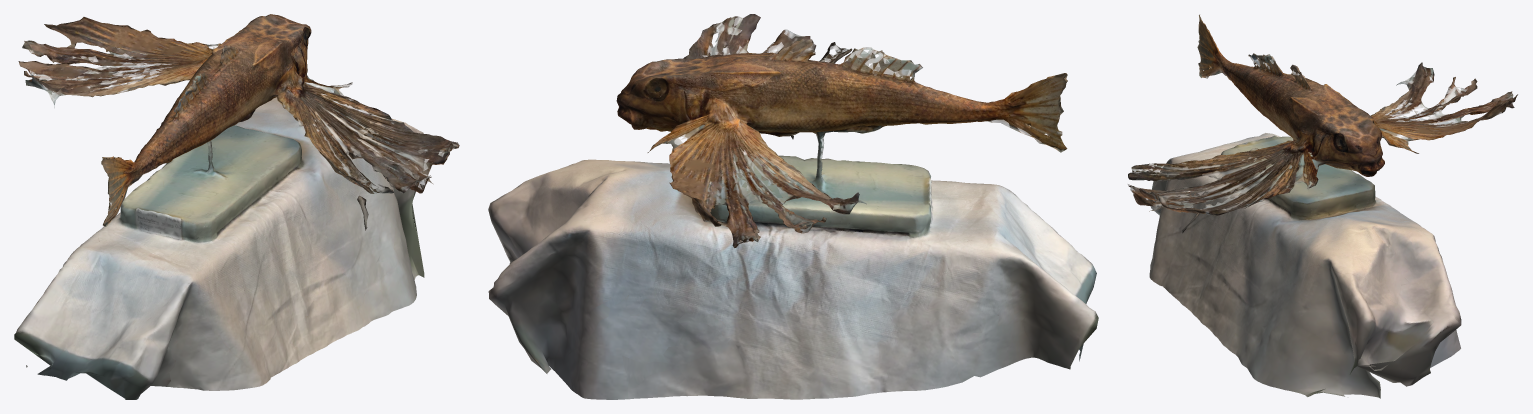
3 renders of one model, left to right at view 1: azimuth 30°, elevation 25°; view 2: azimuth 150°, elevation 25°; view 3: azimuth 270°, elevation 25°, orthographic. The views are drawn at different scales.
Visible parts, largest first — view 1: model_aligned; view 2: model_aligned; view 3: model_aligned.
Boxes of the visible parts, left/top/right/bottom form: model_aligned: left=14, top=14, right=459, bottom=399; model_aligned: left=488, top=14, right=1098, bottom=399; model_aligned: left=1128, top=14, right=1517, bottom=398.
Bounding box in the file's own units: 1.63 × 0.931 × 1.34.
Materials: 2 (2 with a texture image).
